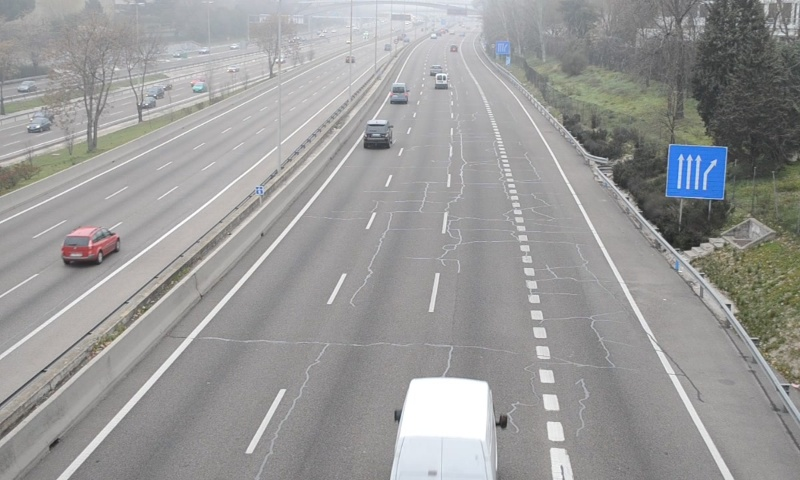car: (364, 120, 393, 146)
van: (390, 377, 498, 480), (389, 82, 408, 104)
